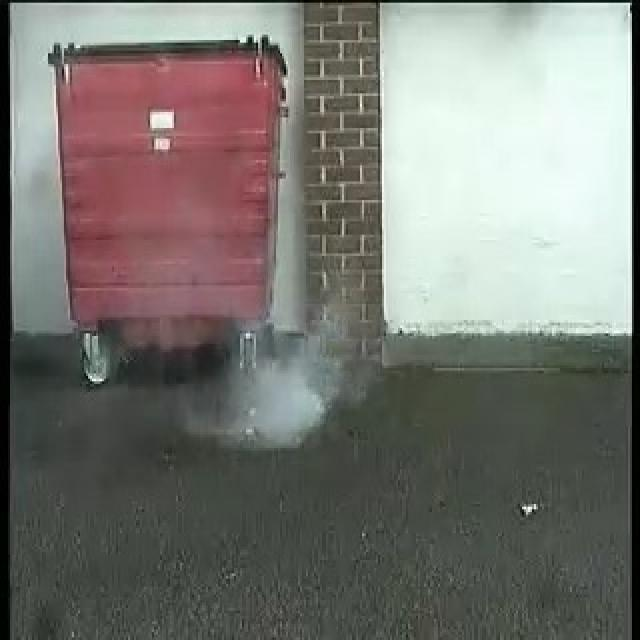smoke: (204, 351, 333, 452)
